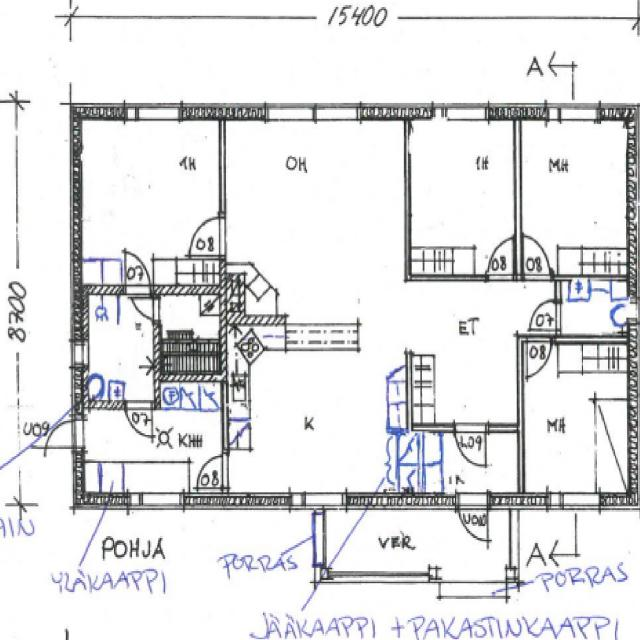door: (456, 494, 486, 546), (191, 218, 226, 255), (456, 424, 485, 468), (523, 238, 551, 280), (485, 238, 513, 280), (45, 417, 82, 448), (124, 252, 150, 294), (194, 454, 226, 488), (126, 401, 152, 441), (527, 335, 551, 372), (533, 300, 561, 330), (131, 298, 160, 326)
